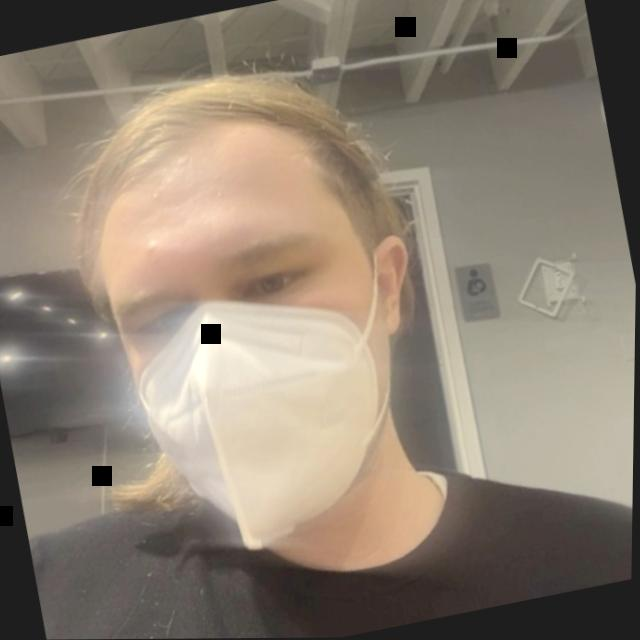Mask: (51, 22, 553, 627)
